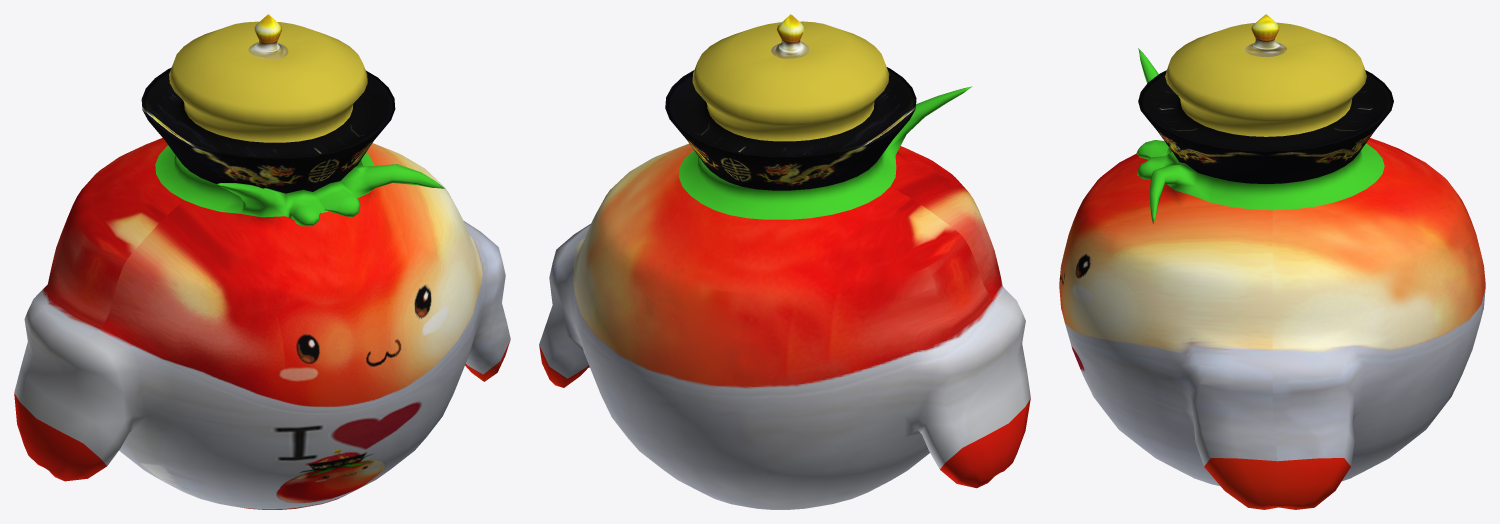
The model's file is Wallyson.fbx.
3 renders of one model, left to right at view 1: azimuth 30°, elevation 25°; view 2: azimuth 150°, elevation 25°; view 3: azimuth 270°, elevation 25°, orthographic. The views are drawn at different scales.
Visible parts, largest first — view 1: Circle; view 2: Circle; view 3: Circle.
Part boxes in pixels (left/top/right/bottom): Circle: left=14, top=14, right=510, bottom=509; Circle: left=539, top=14, right=1030, bottom=509; Circle: left=1059, top=14, right=1485, bottom=509.
Bounding box in the file's own units: 889 × 897 × 750.
Materials: 5 (1 with a texture image).
